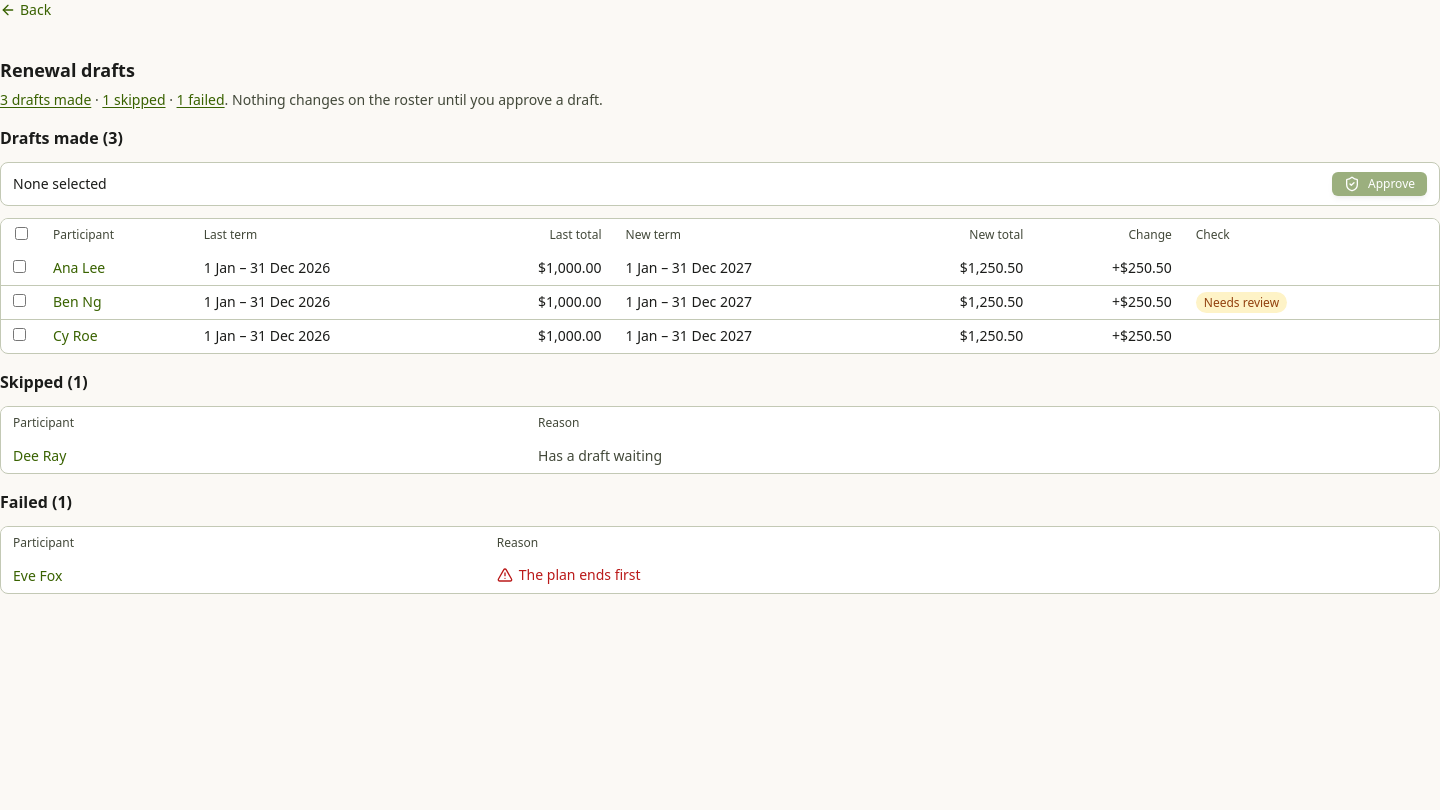
Scenario: AgreementsReview › approves the ticked drafts by their new draft ids and shows each outcome
The image size is (1440, 810).
Click the checkbox named "Select row a" at (20,266), box [13,260,26,273]
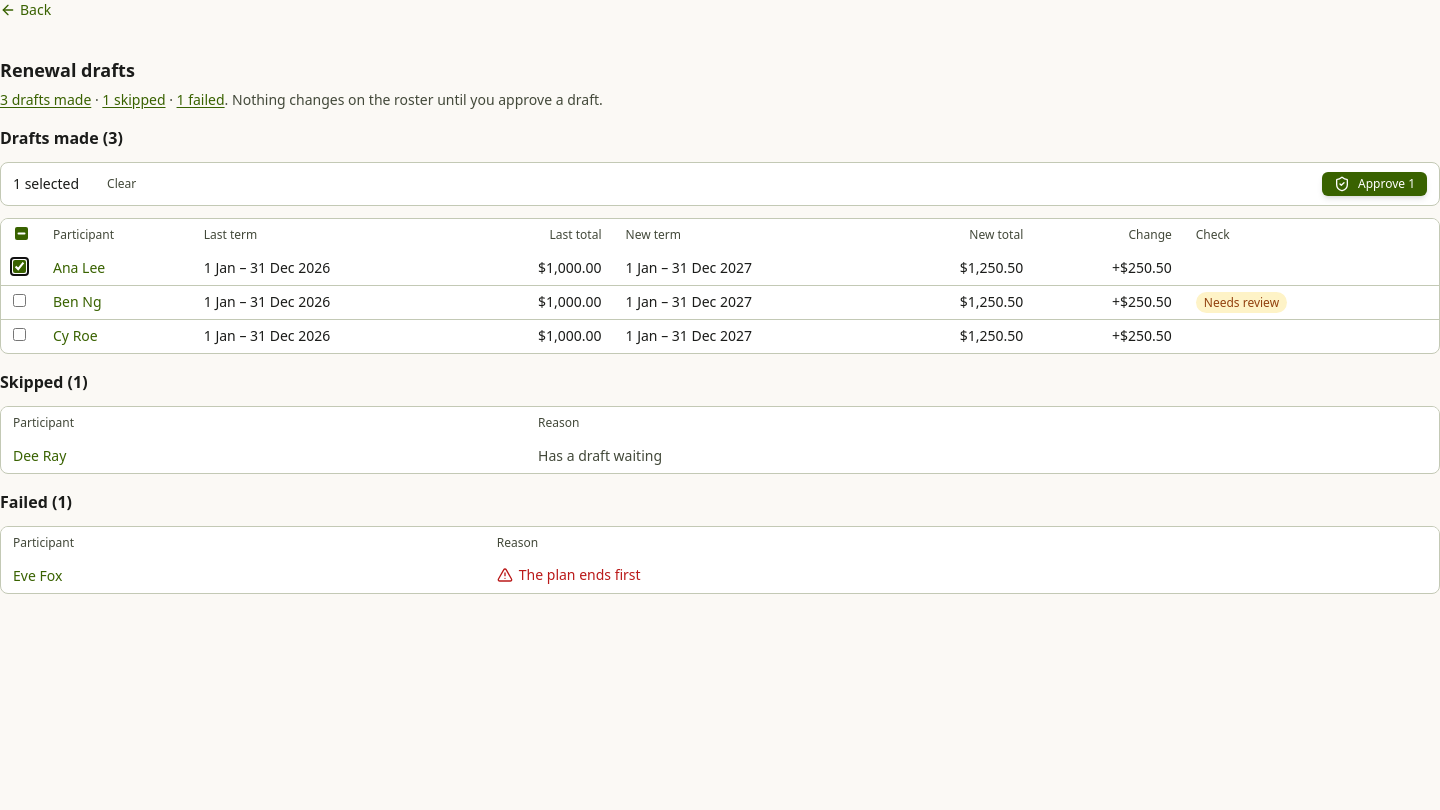
Click the button "Approve 1" at (1374,184), box [1322,172,1427,196]
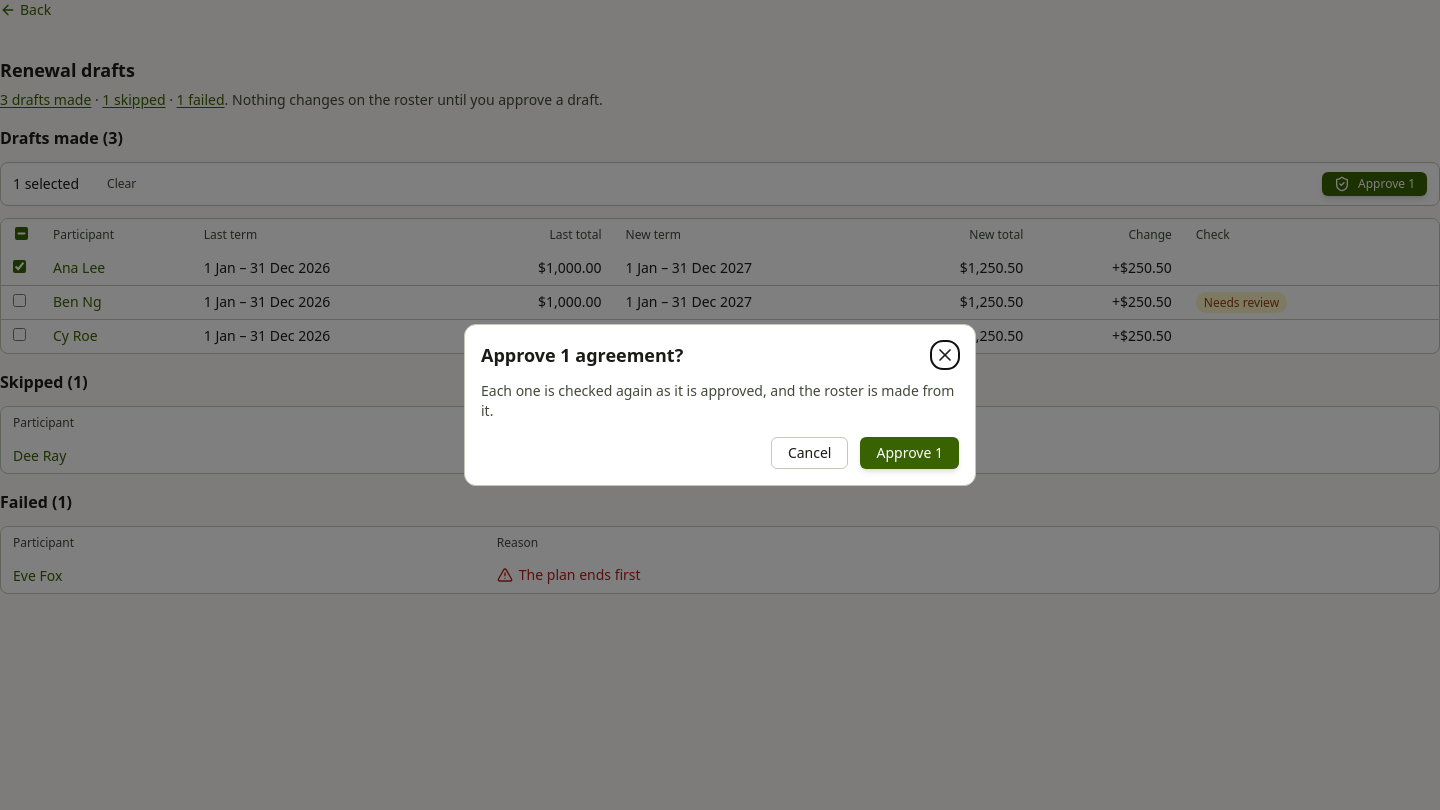
Click the button "Approve 1" at (910,453), box [860,437,959,469]
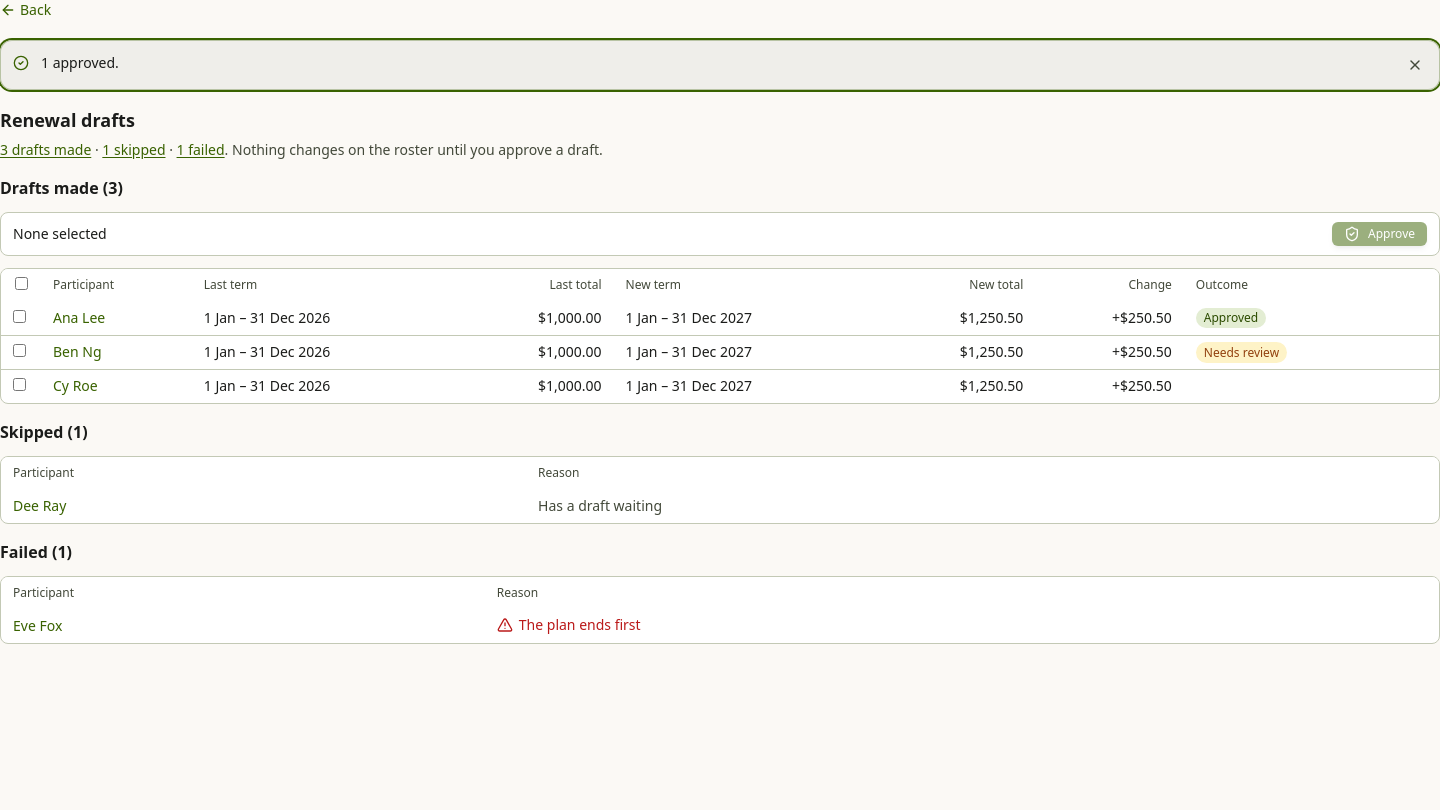
Expected: the text "Approved" is shown, [1196,308,1266,328]
Expected: the column heading "Outcome" is shown, [1184,269,1439,301]
